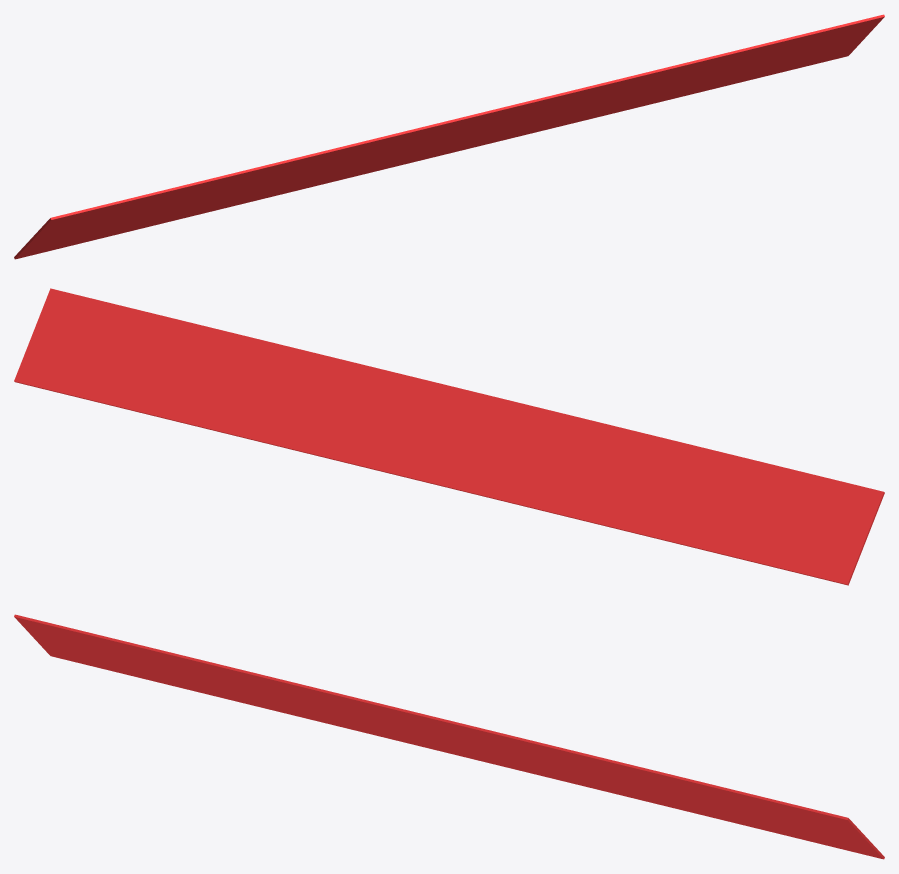
File: Itr_Airconditioner3_Wing1_02.FBX
The picture shows the model from 3 angles, top to bottom: view 1: azimuth 30°, elevation 25°; view 2: azimuth 150°, elevation 25°; view 3: azimuth 330°, elevation 25°; orthographic projection.
Parts seen in each view (by area): view 1: Itr_Airconditioner3_Wing1_02; view 2: Itr_Airconditioner3_Wing1_02; view 3: Itr_Airconditioner3_Wing1_02.
Boxes of the visible parts, left/top/right/bottom form: Itr_Airconditioner3_Wing1_02: left=14, top=14, right=884, bottom=259; Itr_Airconditioner3_Wing1_02: left=14, top=288, right=884, bottom=585; Itr_Airconditioner3_Wing1_02: left=14, top=614, right=884, bottom=859.
Size of the model in its own units: 51.51 by 4 by 4.
